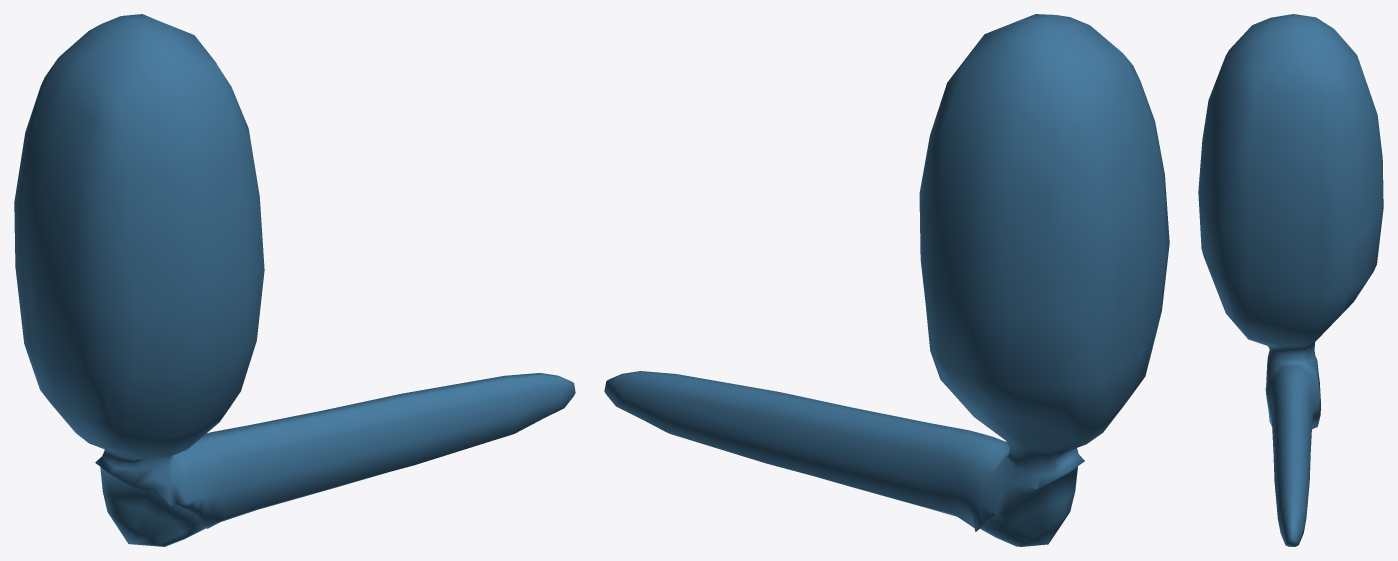
File: Puppe_05_SM.FBX
3 views of the same model, side by side, from view 1: azimuth 30°, elevation 25°; view 2: azimuth 150°, elevation 25°; view 3: azimuth 270°, elevation 25° (orthographic). The views are drawn at different scales.
Visible parts, largest first — view 1: Voodoo 05; view 2: Voodoo 05; view 3: Voodoo 05.
Boxes of the visible parts, bbox=[...] form: Voodoo 05: bbox=[14, 14, 575, 546]; Voodoo 05: bbox=[604, 14, 1169, 546]; Voodoo 05: bbox=[1198, 14, 1383, 546].
Bounding box in the file's own units: 39.21 × 36.99 × 15.38.
